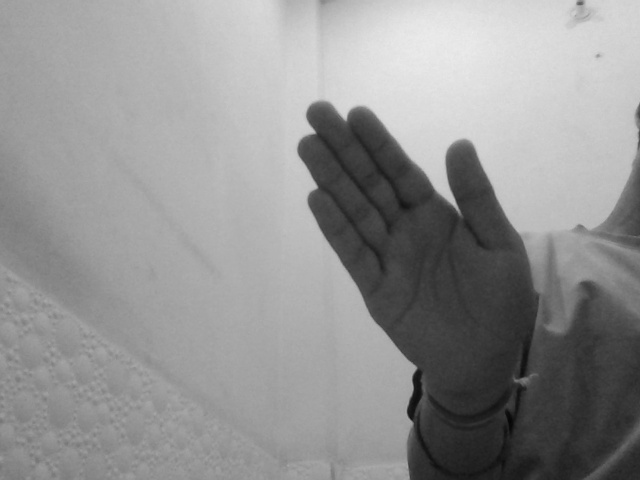Hello: (293, 97, 532, 387)
